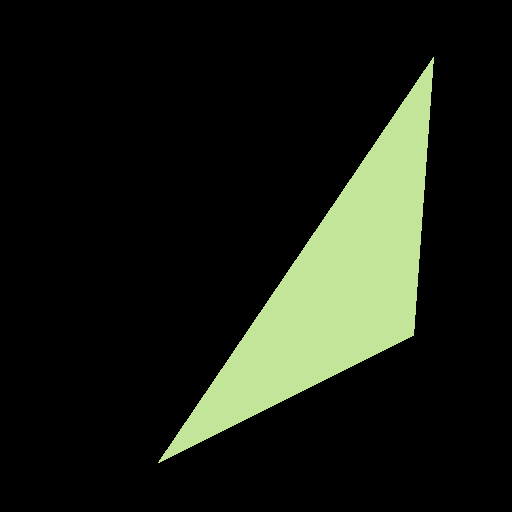triangle: (158, 57, 433, 462)
